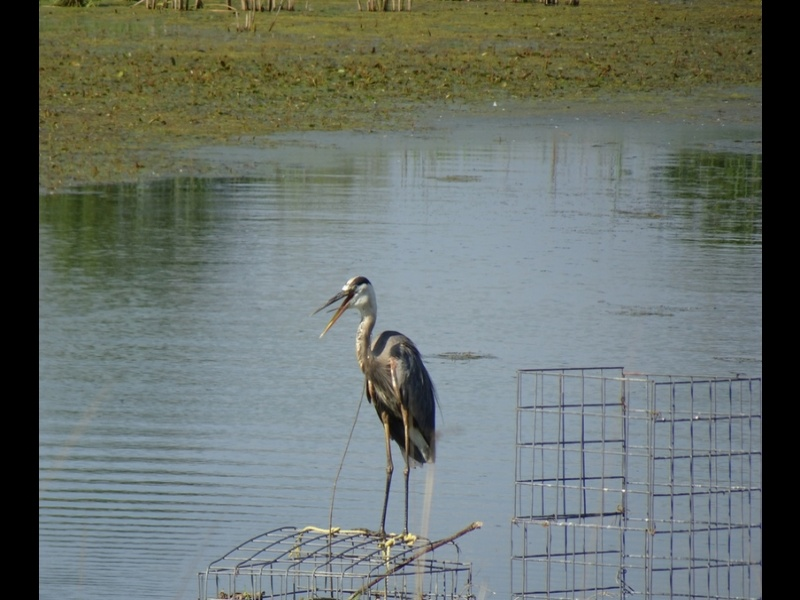heron: (310, 273, 440, 546)
